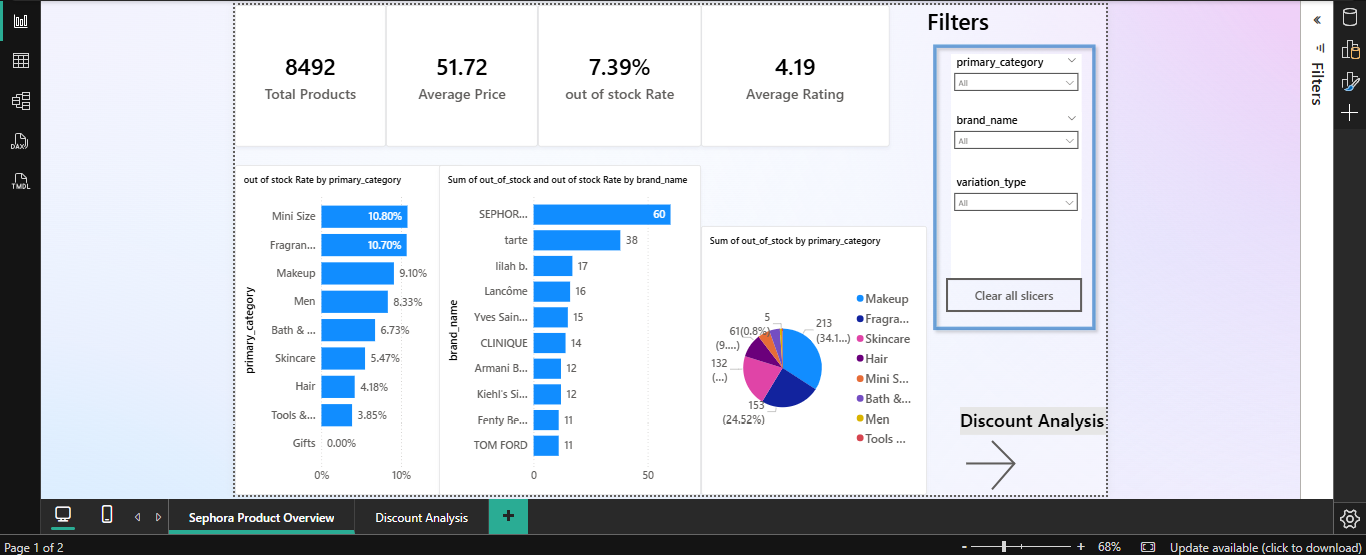

Layout of this report page (visuals, bound fields, positions):
{"tool":"powerbi","page":{"name":"Sephora Product Overview","canvas":[1280,720],"ordinal":0},"visuals":[{"type":"pieChart","fields":{"Category":["product_info.primary_category"],"Y":["Sum(product_info.out_of_stock)"]},"box":[685,325,331.7,395],"z":0},{"type":"clusteredBarChart","fields":{"Y":["product_info.out of stock Rate"],"Category":["product_info.primary_category"]},"box":[0,235,336.7,485],"z":1000},{"type":"clusteredBarChart","fields":{"Category":["product_info.brand_name"],"Y":["Sum(product_info.out_of_stock)"]},"box":[300,235,385,485],"z":2000},{"type":"card","fields":{"Values":["product_info.Total Products"]},"box":[0,0,221.7,208.3],"z":3000},{"type":"card","fields":{"Values":["product_info.Average Price"]},"box":[221.7,0,223.3,208.3],"z":4000},{"type":"card","fields":{"Values":["product_info.Average Rating"]},"box":[685,0,276.7,208.3],"z":5000},{"type":"card","fields":{"Values":["product_info.out of stock Rate"]},"box":[445,0,240,208.3],"z":6000},{"type":"actionButton","title":"Discount Analysis","box":[1065,590,215,130],"z":7000},{"type":"shape","title":"Filters","box":[1016.7,0,256.7,486.7],"z":8000},{"type":"slicer","fields":{"Values":["product_info.primary_category"]},"box":[1052.2,71.7,191.7,115],"z":9000},{"type":"slicer","fields":{"Values":["product_info.brand_name"]},"box":[1051.7,156.7,191.7,156.7],"z":10000},{"type":"slicer","fields":{"Values":["product_info.variation_type"]},"box":[1051.4,248.6,191.4,154.3],"z":11000},{"type":"actionButton","box":[1045,401.7,200,50],"z":12000}]}

Visuals, with their boxes on the page's 1280x720 design canvas (x1, y1, x2, y2). These are canvas units, not pixel positions in the 1366x555 screenshot, which may show the page scaled, cropped or inside an application window:
pieChart - product_info.primary_category x Sum(product_info.out_of_stock): {"left": 685, "top": 325, "right": 1017, "bottom": 720}
clusteredBarChart - product_info.out of stock Rate x product_info.primary_category: {"left": 0, "top": 235, "right": 337, "bottom": 720}
clusteredBarChart - product_info.brand_name x Sum(product_info.out_of_stock): {"left": 300, "top": 235, "right": 685, "bottom": 720}
card - product_info.Total Products: {"left": 0, "top": 0, "right": 222, "bottom": 208}
card - product_info.Average Price: {"left": 222, "top": 0, "right": 445, "bottom": 208}
card - product_info.Average Rating: {"left": 685, "top": 0, "right": 962, "bottom": 208}
card - product_info.out of stock Rate: {"left": 445, "top": 0, "right": 685, "bottom": 208}
"Discount Analysis" actionButton: {"left": 1065, "top": 590, "right": 1280, "bottom": 720}
"Filters" shape: {"left": 1017, "top": 0, "right": 1273, "bottom": 487}
slicer - product_info.primary_category: {"left": 1052, "top": 72, "right": 1244, "bottom": 187}
slicer - product_info.brand_name: {"left": 1052, "top": 157, "right": 1243, "bottom": 313}
slicer - product_info.variation_type: {"left": 1051, "top": 249, "right": 1243, "bottom": 403}
actionButton: {"left": 1045, "top": 402, "right": 1245, "bottom": 452}
